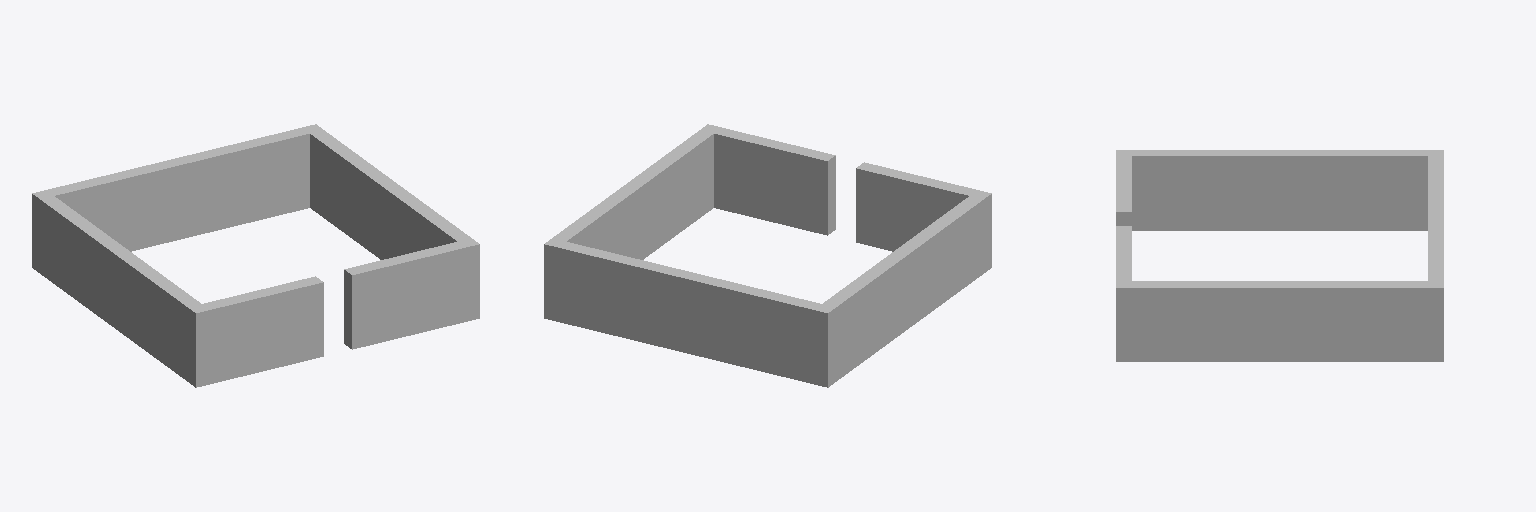
Rendered from Dungeon.obj.
3 views of the same model, side by side, from view 1: azimuth 30°, elevation 25°; view 2: azimuth 150°, elevation 25°; view 3: azimuth 270°, elevation 25° (orthographic).
Parts seen in each view (by area): view 1: pCube3, pCube5, pCube6, pCube4, pCube2; view 2: pCube3, pCube5, pCube4, pCube6, pCube2; view 3: pCube4, pCube5, pCube3, pCube6, pCube2.
Boxes of the visible parts, x1,y1,x2,y2 form: pCube3: [32, 125, 322, 272]; pCube5: [32, 194, 209, 387]; pCube6: [344, 238, 479, 349]; pCube4: [310, 124, 479, 321]; pCube2: [188, 276, 323, 386]; pCube3: [544, 238, 835, 387]; pCube5: [814, 190, 991, 385]; pCube4: [544, 124, 713, 320]; pCube6: [702, 124, 835, 235]; pCube2: [856, 162, 991, 253]; pCube4: [1116, 281, 1443, 361]; pCube5: [1116, 150, 1427, 230]; pCube3: [1428, 150, 1443, 361]; pCube6: [1116, 226, 1131, 361]; pCube2: [1116, 150, 1131, 225].
Size of the model in its own units: 20 by 5 by 20.